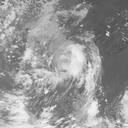cyclone: (53, 45, 88, 79)
